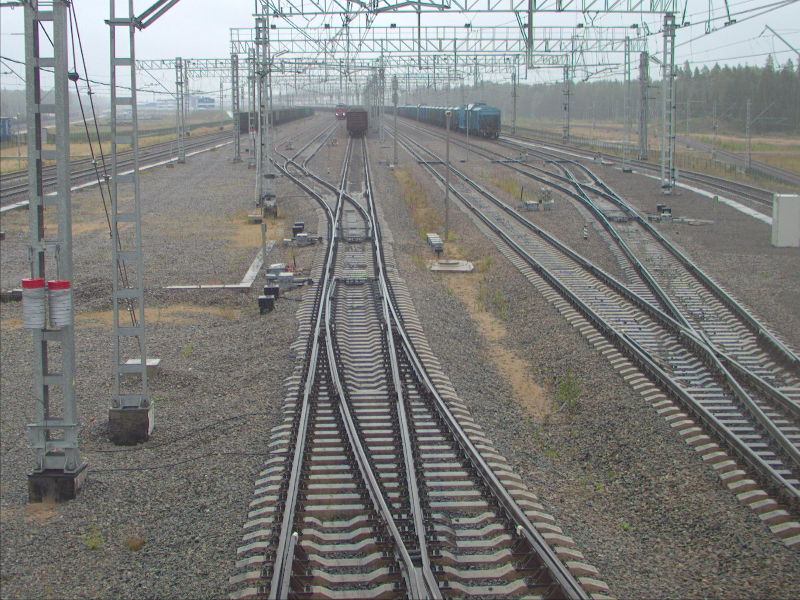right: (328, 210, 383, 242)
